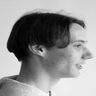ear: (20, 37, 52, 63)
